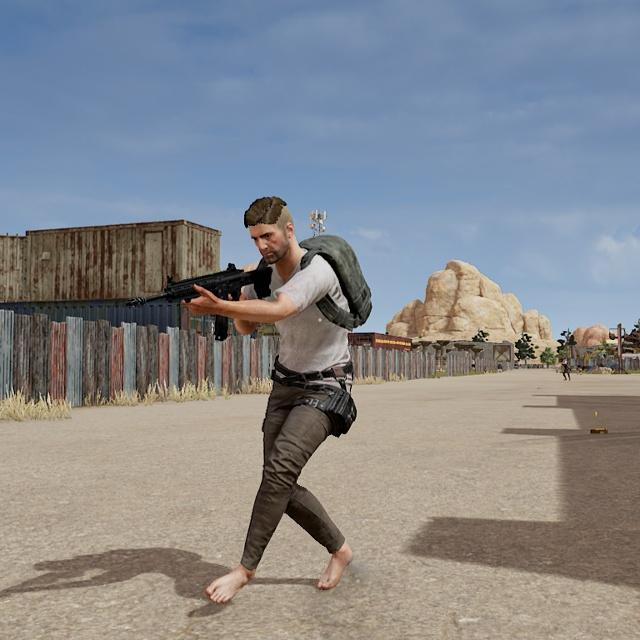head: (241, 190, 300, 266)
people: (185, 187, 373, 603), (558, 356, 573, 382)
